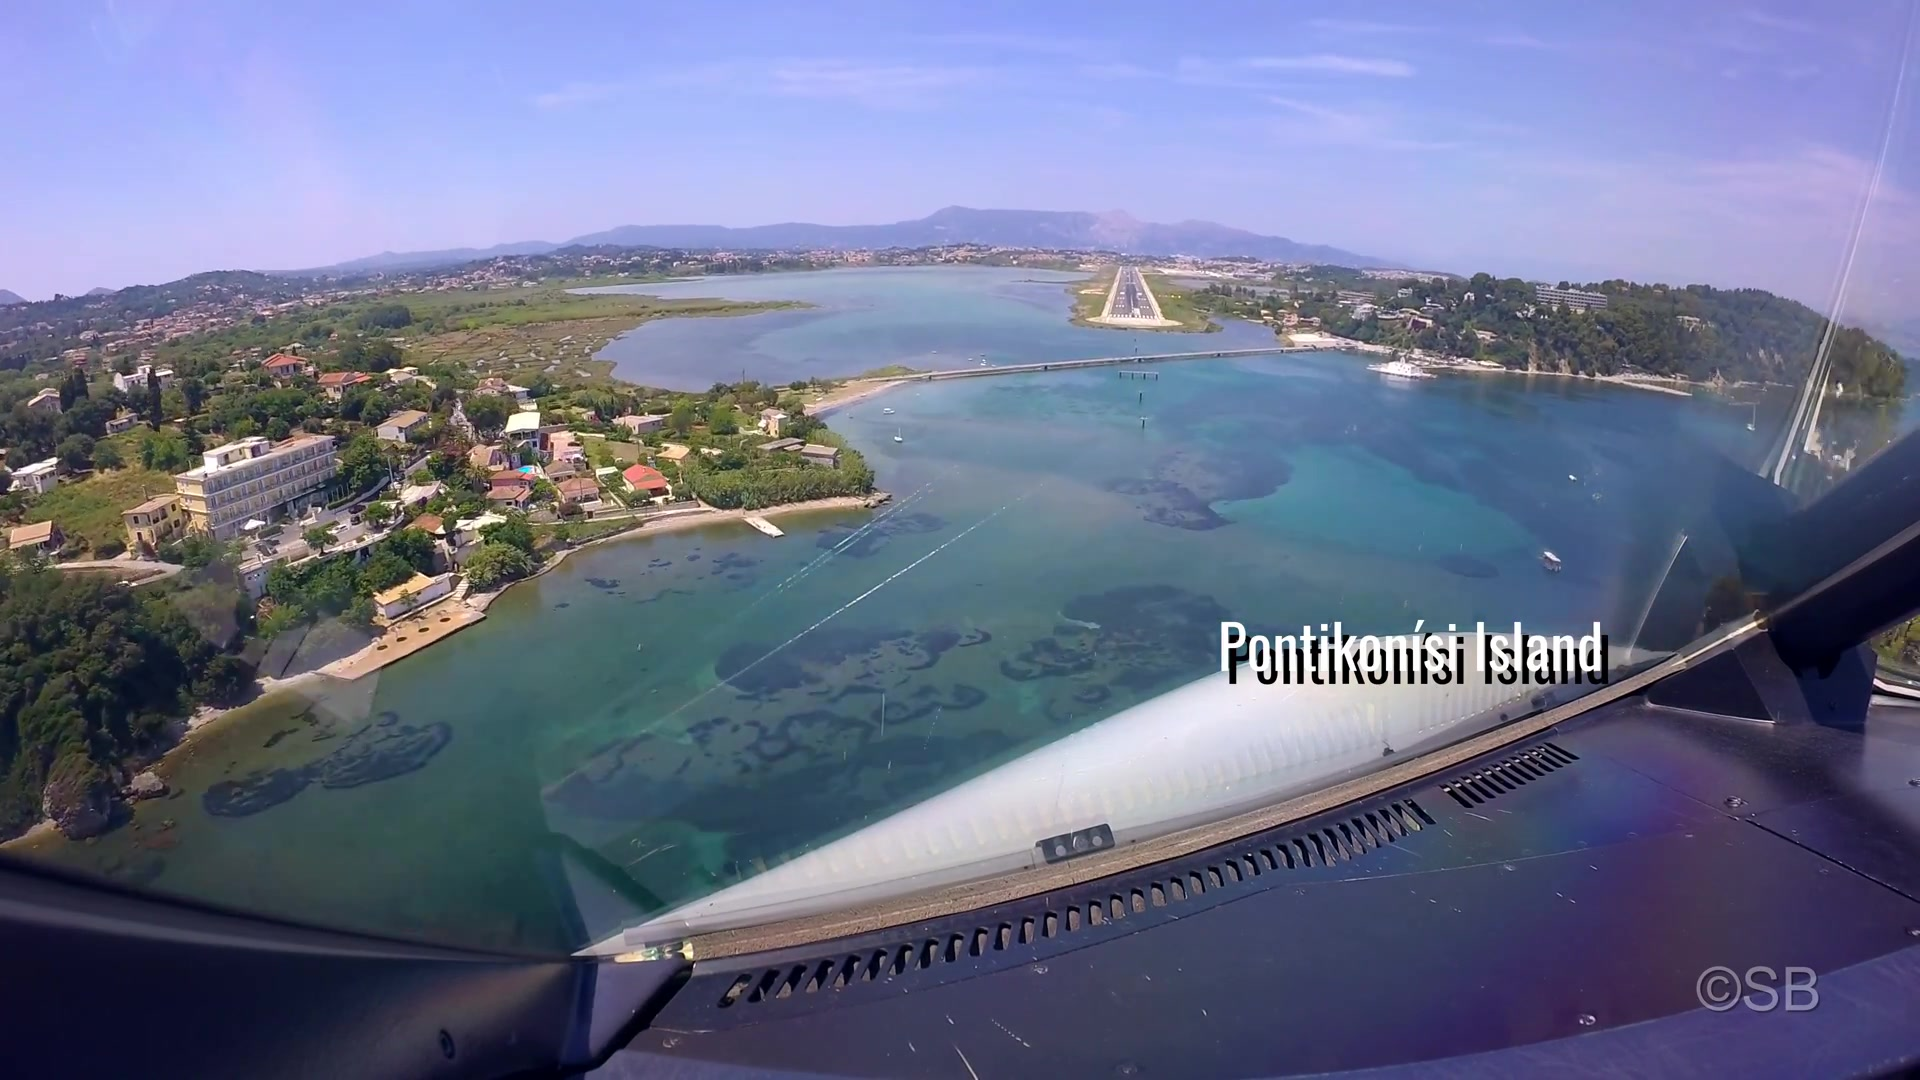entrance: (1106, 313, 1156, 320)
runway: (1106, 265, 1158, 324)
